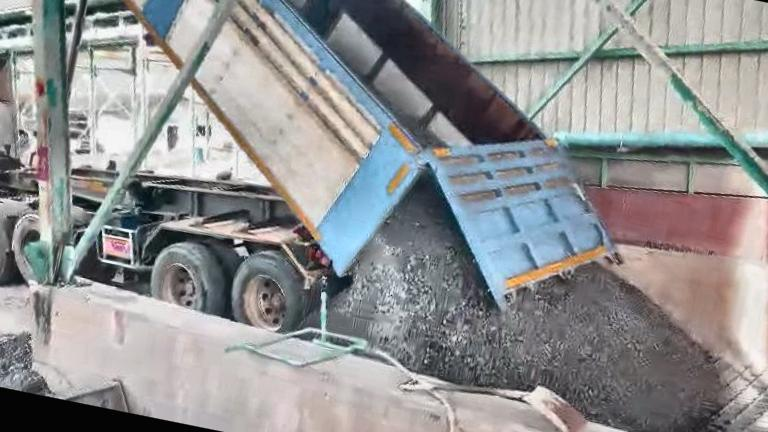gravel: (330, 177, 726, 432), (377, 89, 446, 146), (0, 333, 52, 395)
